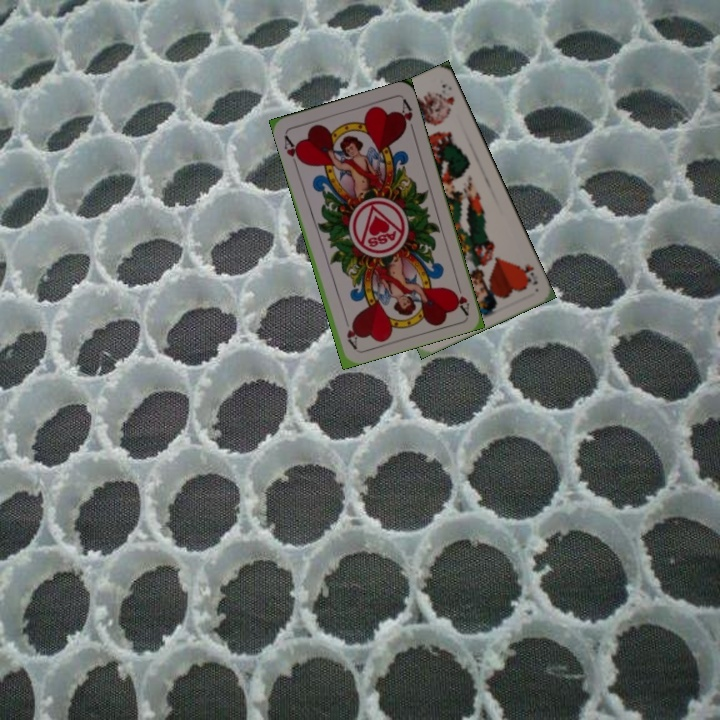HA: (280, 131, 305, 170), (448, 276, 472, 316)
HO: (515, 260, 541, 288)
